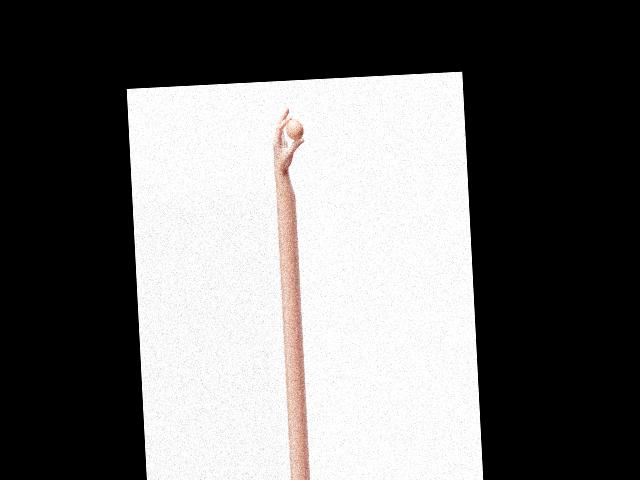egg: (286, 118, 304, 141)
